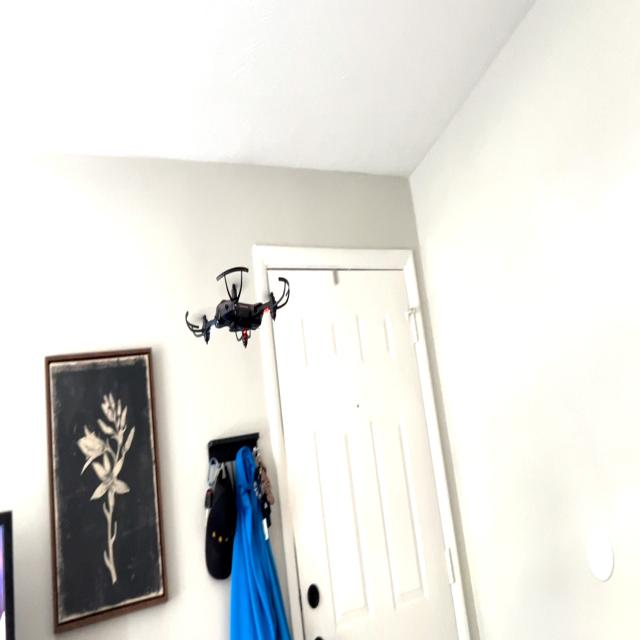drone: (175, 244, 297, 366)
